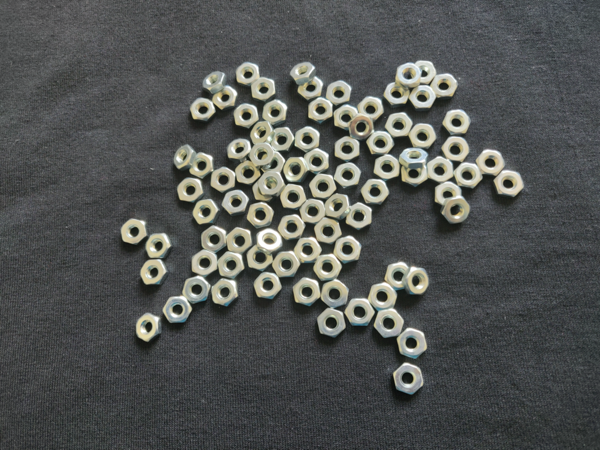nut: (392, 363, 424, 395), (139, 259, 172, 289), (253, 273, 287, 302), (322, 280, 353, 311), (335, 234, 366, 265), (396, 328, 428, 358), (375, 309, 405, 340), (440, 135, 473, 163), (184, 276, 211, 310), (347, 297, 377, 327), (317, 306, 345, 338), (292, 278, 321, 308), (163, 297, 193, 326), (194, 196, 220, 229), (443, 197, 472, 226), (190, 249, 219, 278), (425, 156, 455, 184), (477, 150, 508, 177), (312, 256, 344, 282), (349, 114, 381, 140), (145, 234, 179, 258), (175, 177, 204, 205), (370, 283, 398, 312), (274, 252, 303, 280), (345, 203, 373, 232), (362, 180, 392, 207), (136, 312, 161, 344), (443, 108, 472, 135), (232, 101, 259, 130), (211, 279, 238, 308), (369, 131, 398, 158), (200, 226, 229, 253), (335, 162, 363, 189), (309, 97, 336, 125), (209, 167, 236, 195), (496, 171, 525, 197), (310, 173, 339, 199), (279, 212, 305, 241), (314, 218, 344, 243), (453, 165, 487, 187), (409, 86, 440, 110), (120, 218, 147, 245), (374, 155, 401, 182), (252, 177, 279, 204), (226, 229, 254, 255), (222, 189, 250, 215), (295, 126, 323, 152), (411, 123, 440, 148), (246, 203, 275, 228), (404, 267, 429, 295), (216, 253, 245, 277), (246, 245, 272, 271), (281, 184, 307, 210), (432, 73, 459, 98), (359, 96, 384, 123), (299, 73, 324, 100), (235, 103, 260, 130), (261, 151, 289, 175), (436, 181, 460, 208), (294, 239, 322, 262), (325, 195, 353, 218), (266, 97, 289, 125), (192, 99, 217, 124), (227, 136, 252, 161), (335, 136, 359, 162), (396, 62, 422, 86), (387, 113, 413, 137), (300, 200, 326, 224), (327, 82, 353, 106), (331, 106, 357, 130), (258, 226, 282, 252), (250, 143, 274, 169), (273, 126, 296, 153), (258, 172, 286, 194), (384, 263, 407, 289), (291, 59, 317, 82), (414, 62, 441, 84), (252, 75, 276, 99), (191, 153, 215, 177), (401, 164, 427, 186), (307, 147, 329, 173), (285, 156, 307, 182), (237, 162, 259, 188), (237, 62, 260, 86), (205, 70, 227, 93), (401, 148, 429, 166), (385, 84, 409, 105), (218, 85, 239, 109), (251, 122, 271, 143), (175, 146, 192, 169)
